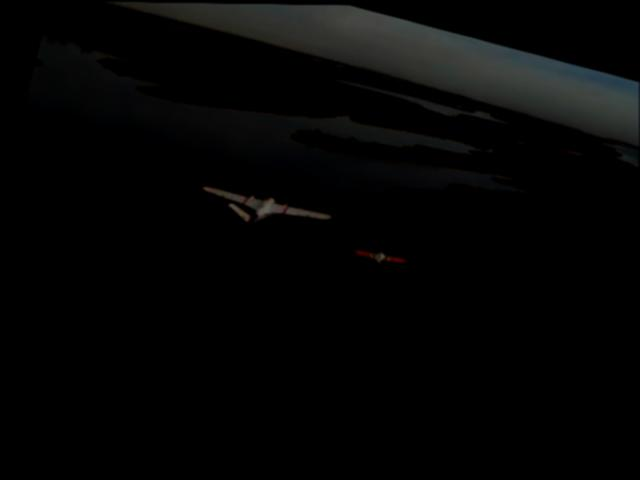uav: (192, 173, 335, 246), (344, 236, 418, 280)
